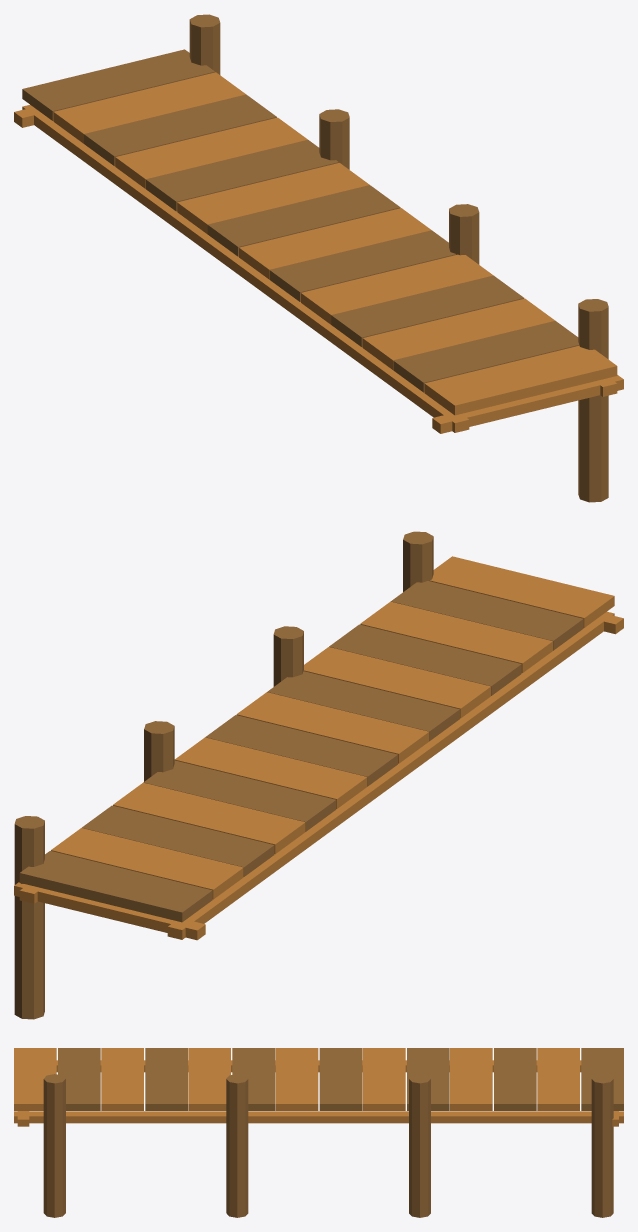
The model's file is Harbor_Bridge_01.fbx.
The picture shows the model from 3 angles, top to bottom: view 1: azimuth 30°, elevation 25°; view 2: azimuth 150°, elevation 25°; view 3: azimuth 270°, elevation 25°; orthographic projection. The views are drawn at different scales.
Parts seen in each view (by area): view 1: Bridge_Support_01.001, Brdige_StandingSupport_01.001; view 2: Bridge_Support_01.001, Brdige_StandingSupport_01.001; view 3: Bridge_Support_01.001, Brdige_StandingSupport_01.001.
Part boxes in pixels (left/top/right/bottom): Bridge_Support_01.001: left=14, top=49, right=623, bottom=433; Brdige_StandingSupport_01.001: left=189, top=14, right=608, bottom=502; Bridge_Support_01.001: left=14, top=556, right=623, bottom=940; Brdige_StandingSupport_01.001: left=14, top=531, right=433, bottom=1019; Bridge_Support_01.001: left=14, top=1048, right=623, bottom=1126; Brdige_StandingSupport_01.001: left=43, top=1074, right=613, bottom=1217.
Bounding box in the file's own units: 735 × 694 × 2854.
